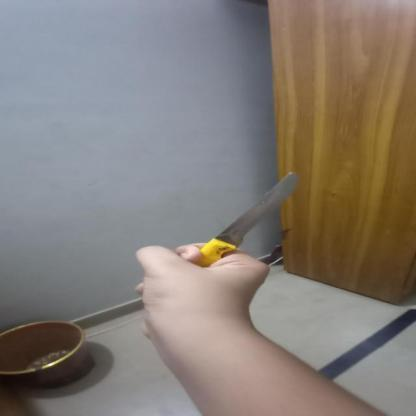Knife: (192, 173, 299, 270)
